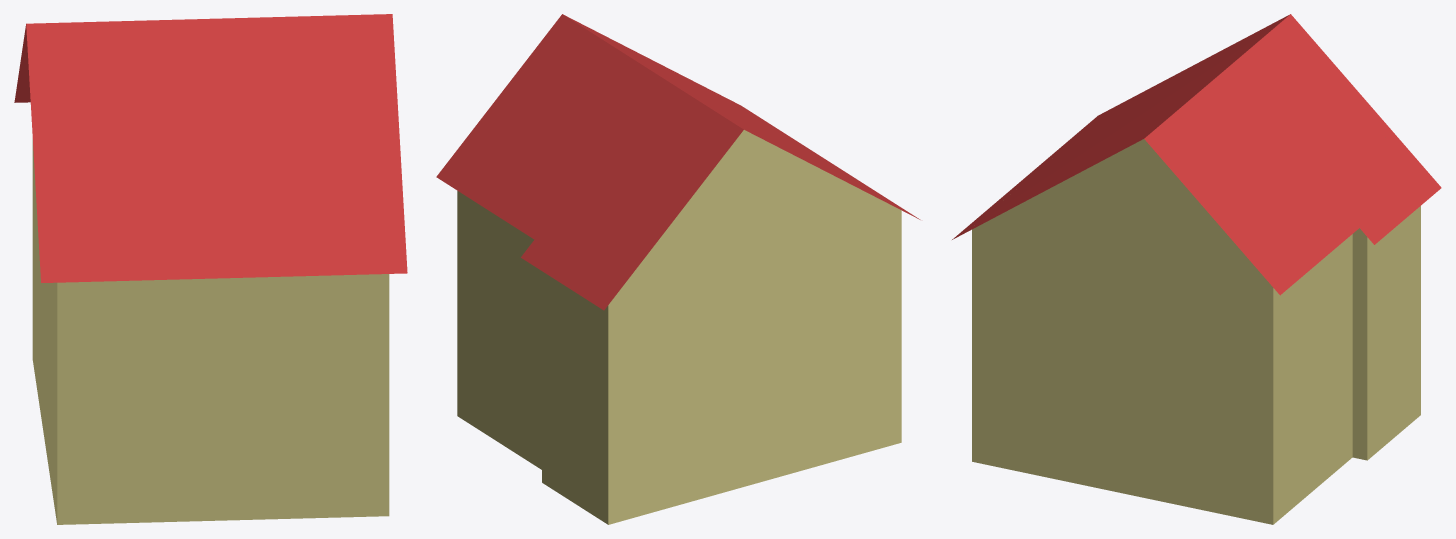
3 renders of one model, left to right at view 1: azimuth 30°, elevation 25°; view 2: azimuth 150°, elevation 25°; view 3: azimuth 270°, elevation 25°, orthographic. The views are drawn at different scales.
Size of the model in its own units: 14.88 by 15.91 by 13.11.
